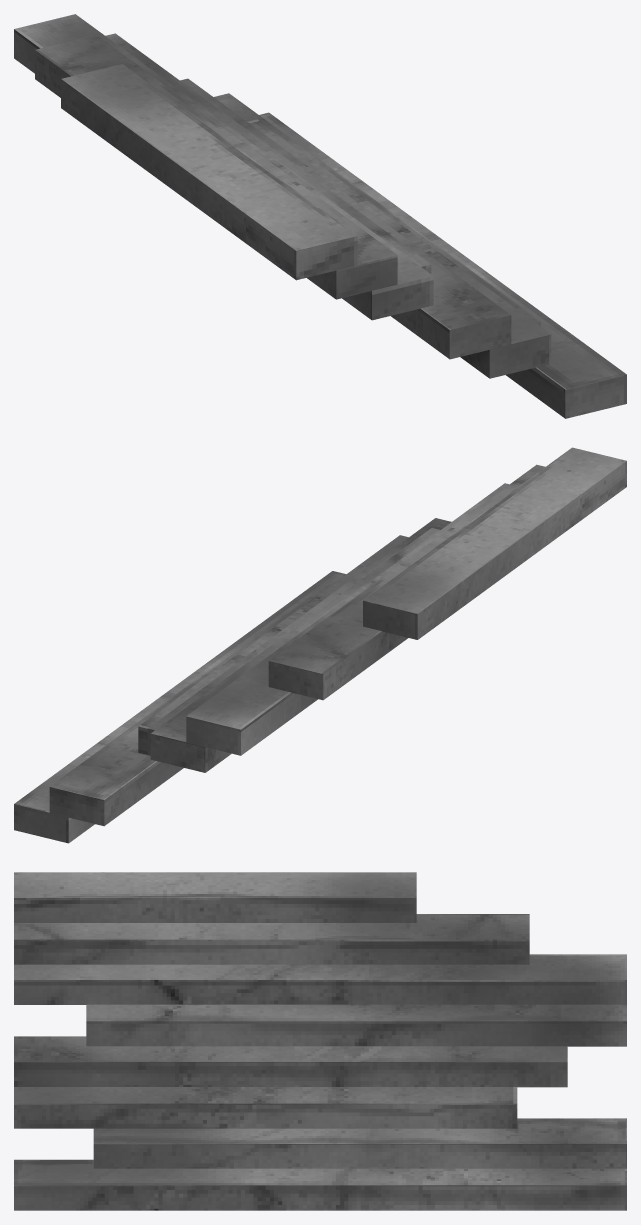
File: brokenstairs_wt.fbx
3 renders of one model, top to bottom at view 1: azimuth 30°, elevation 25°; view 2: azimuth 150°, elevation 25°; view 3: azimuth 270°, elevation 25°, orthographic. The views are drawn at different scales.
Parts seen in each view (by area): view 1: Cube.004; view 2: Cube.004; view 3: Cube.004.
Part boxes in pixels (box(x1,y1,x2,y2)): Cube.004: box(14, 14, 626, 418); Cube.004: box(14, 447, 626, 843); Cube.004: box(14, 872, 626, 1210).
Size of the model in its own units: 1179 by 796 by 2211.
